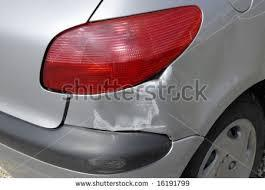Fender: (68, 62, 205, 138)
